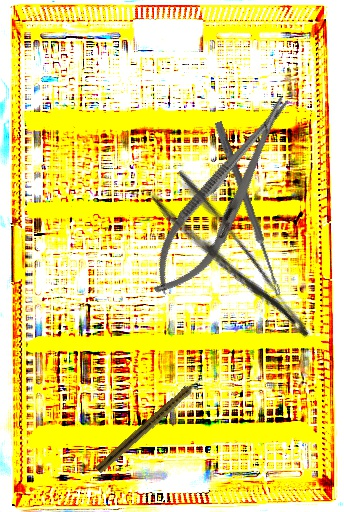Dressing Forceps: (148, 166, 315, 363)
Handpiece: (94, 374, 207, 476)
Needle Holder: (136, 84, 310, 309)
Surgical Spoon: (212, 120, 285, 297)
